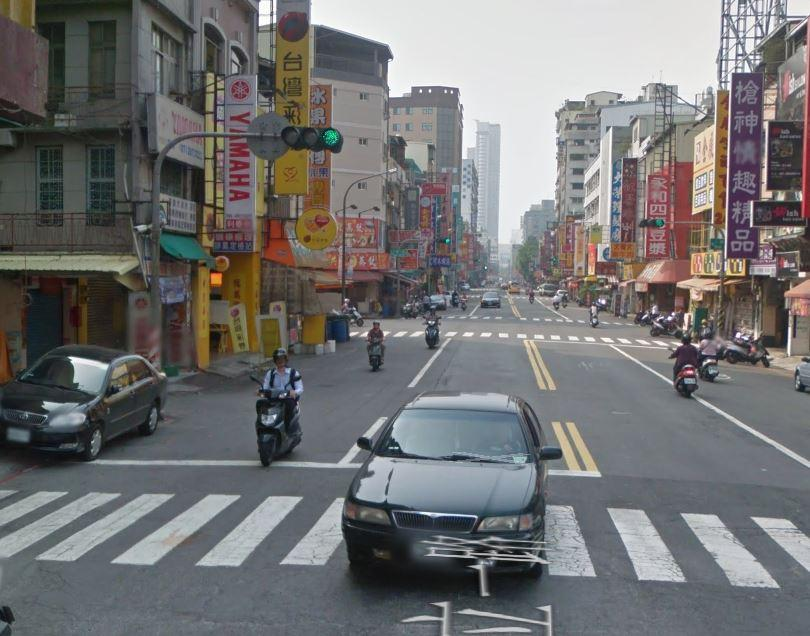car: (345, 395, 549, 587), (0, 347, 175, 465), (477, 283, 502, 314)
green_traffic_light: (280, 120, 345, 154)
motorcycle: (240, 371, 311, 468), (667, 347, 700, 397), (360, 332, 387, 372), (418, 315, 440, 347)
